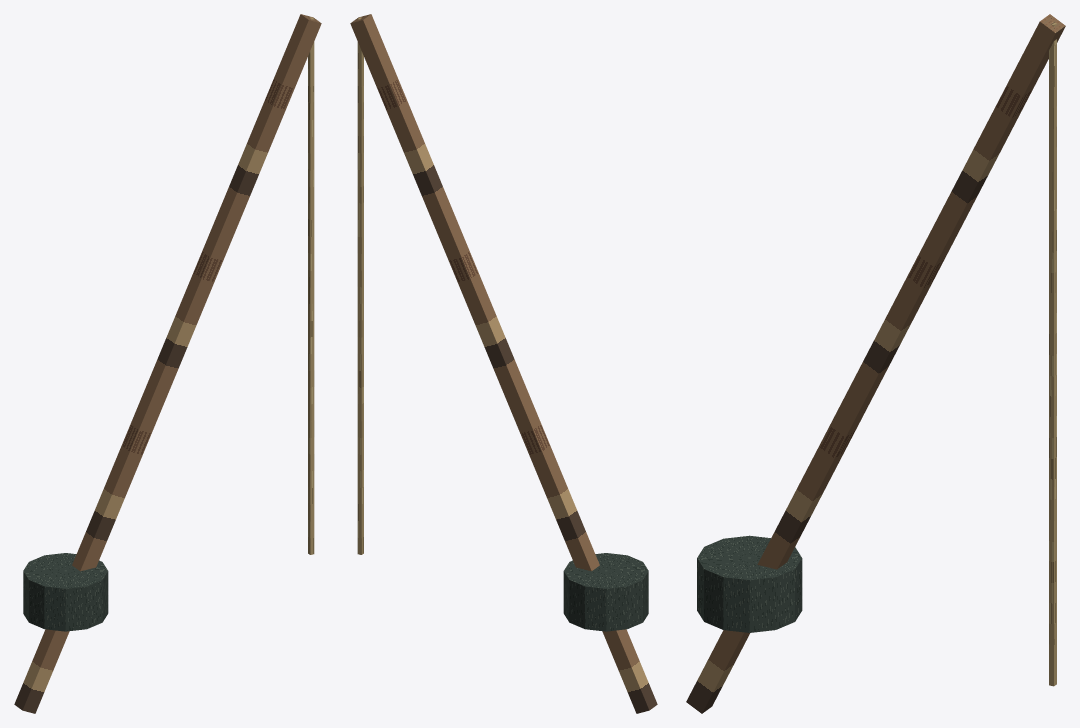
The model's file is fishing_rod.gltf.
3 views of the same model, side by side, from view 1: azimuth 30°, elevation 25°; view 2: azimuth 150°, elevation 25°; view 3: azimuth 330°, elevation 25° (orthographic). The views are drawn at different scales.
Parts seen in each view (by area): view 1: rod, reel, line; view 2: rod, reel, line; view 3: rod, reel, line.
Boxes of the visible parts, box(x1,y1,x2,y2) form: rod: box(14, 14, 321, 713); reel: box(23, 553, 108, 631); line: box(308, 17, 314, 554); rod: box(350, 14, 657, 713); reel: box(563, 553, 648, 631); line: box(357, 17, 363, 554); rod: box(686, 14, 1065, 713); reel: box(697, 535, 802, 632); line: box(1049, 22, 1056, 686).
Size of the model in its own units: 0.9144 by 1.83 by 0.225.
3 materials, 3 textured.
